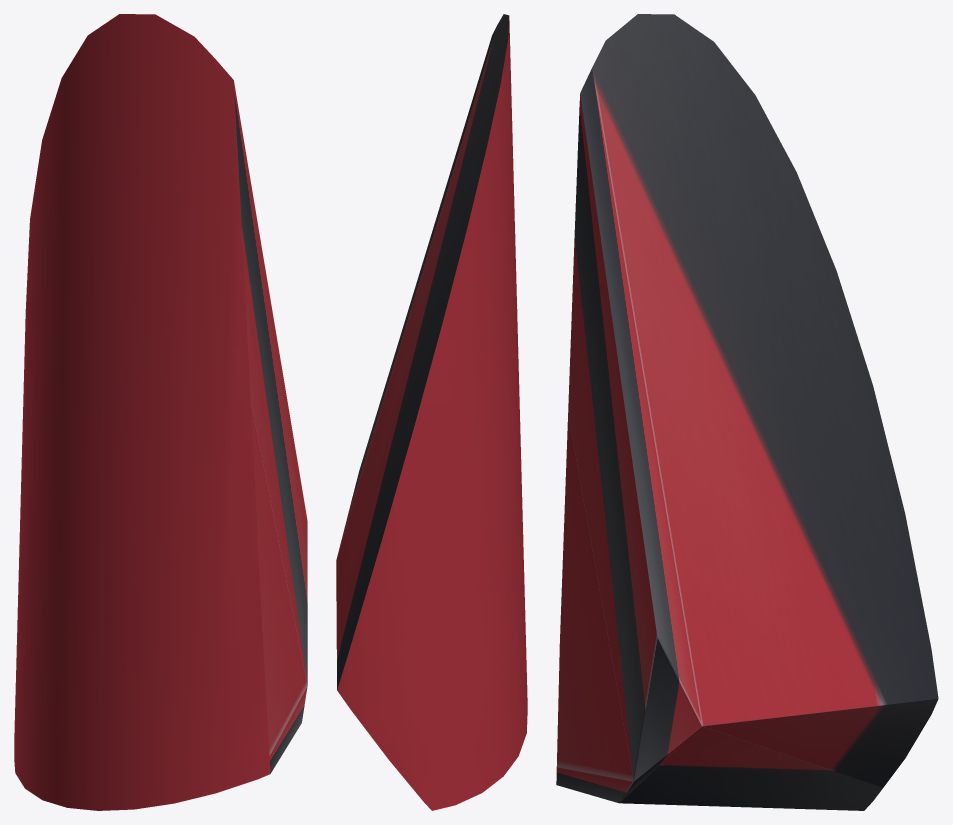
Rendered from torii_broken_025.obj.
The picture shows the model from 3 angles, left to right: view 1: azimuth 30°, elevation 25°; view 2: azimuth 150°, elevation 25°; view 3: azimuth 270°, elevation 25°; orthographic projection. The views are drawn at different scales.
Parts seen in each view (by area): view 1: 鳥居.001_cell.025_鳥居.001_cell.014; view 2: 鳥居.001_cell.025_鳥居.001_cell.014; view 3: 鳥居.001_cell.025_鳥居.001_cell.014.
Part boxes in pixels (x1,y1,x2,y2): 鳥居.001_cell.025_鳥居.001_cell.014: (14,14,307,810); 鳥居.001_cell.025_鳥居.001_cell.014: (336,14,527,810); 鳥居.001_cell.025_鳥居.001_cell.014: (556,14,938,810).
Bounding box in the file's own units: 0.1879 × 0.6737 × 0.288.
1 material, 1 textured.
